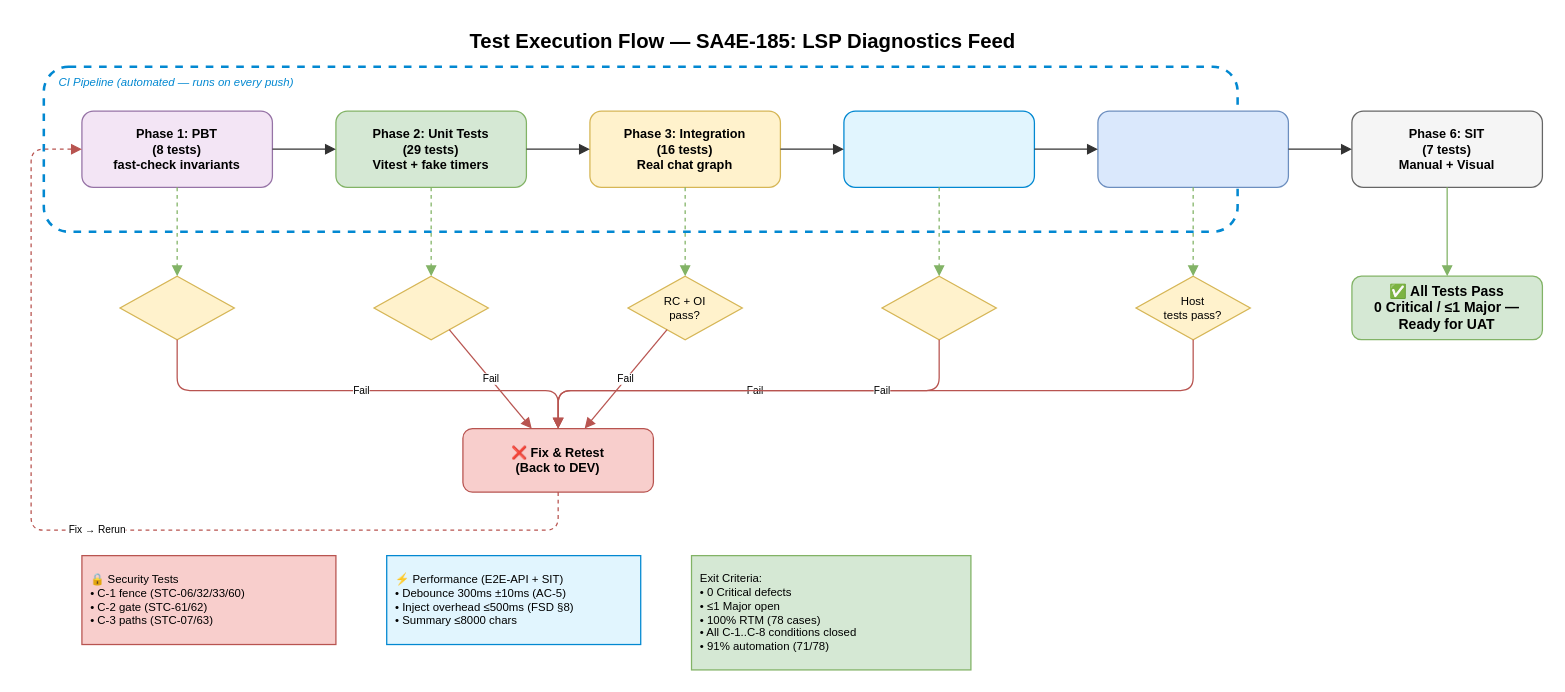
The diagram is 1565 pixels wide and 692 high, and some of its shapes have lost their labels. Here are the shapes that lost their labels. From the top down, the box of each, then its label:
(843, 110, 1034, 187): Phase 4: E2E-API (12 tests) Full pipeline
(1097, 110, 1288, 187): Phase 5: E2E-UI (6 tests) @vscode/test-electron
(119, 275, 234, 340): 200+ runs 0 violations?
(373, 275, 488, 340): ≥90% branch cov?
(881, 275, 996, 340): Security C-1..3 100%?
